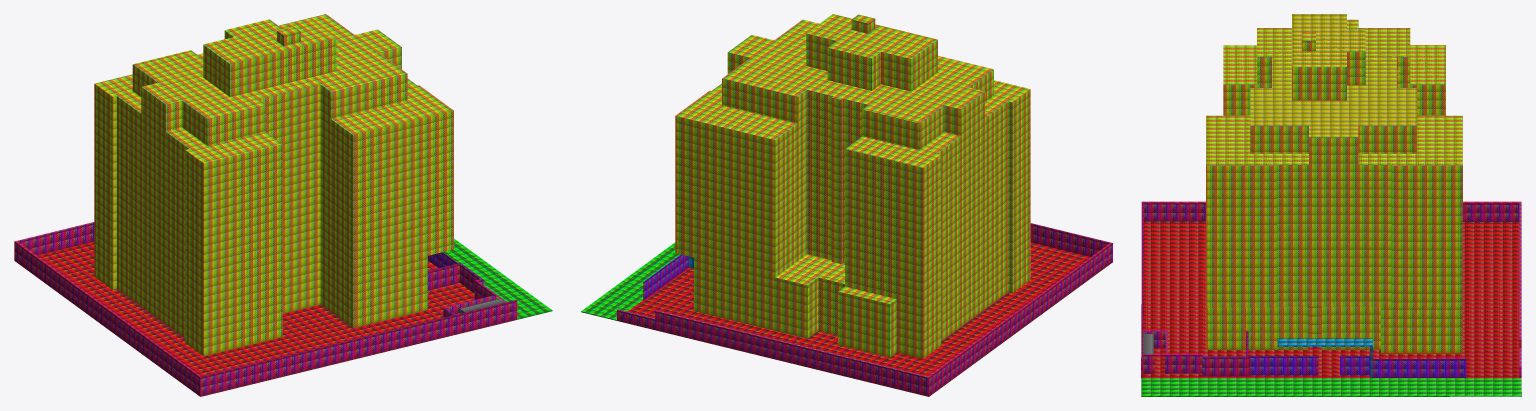
File: Bonnart externo.obj
3 views of the same model, side by side, from view 1: azimuth 30°, elevation 25°; view 2: azimuth 150°, elevation 25°; view 3: azimuth 270°, elevation 25° (orthographic). The views are drawn at different scales.
Parts seen in each view (by area): view 1: Mesh7 Torre Model, Mesh8 Group1 Model, Mesh1 Muro Model; view 2: Mesh7 Torre Model, Mesh8 Group1 Model, Mesh1 Muro Model, Mesh5 Muro_vidro Model; view 3: Mesh7 Torre Model, Mesh8 Group1 Model, Mesh1 Muro Model, Mesh5 Muro_vidro Model, Mesh3 Muro_vidro Model, Mesh6 Portico_Acesso Model, Mesh4 Muro_vidro Model.
Boxes of the visible parts, x1,y1,x2,y2 form: Mesh7 Torre Model: (94, 14, 453, 356); Mesh8 Group1 Model: (14, 238, 552, 396); Mesh1 Muro Model: (14, 222, 517, 395); Mesh7 Torre Model: (675, 14, 1030, 358); Mesh8 Group1 Model: (581, 242, 1112, 396); Mesh1 Muro Model: (617, 223, 1112, 395); Mesh5 Muro_vidro Model: (643, 254, 688, 300); Mesh7 Torre Model: (1206, 14, 1462, 353); Mesh8 Group1 Model: (1141, 221, 1521, 396); Mesh1 Muro Model: (1141, 201, 1521, 378); Mesh5 Muro_vidro Model: (1373, 358, 1466, 377); Mesh3 Muro_vidro Model: (1248, 356, 1318, 375); Mesh6 Portico_Acesso Model: (1277, 338, 1372, 378); Mesh4 Muro_vidro Model: (1340, 356, 1370, 375).
Size of the model in its own units: 4362 by 3130 by 4002.
7 materials, 7 textured.
